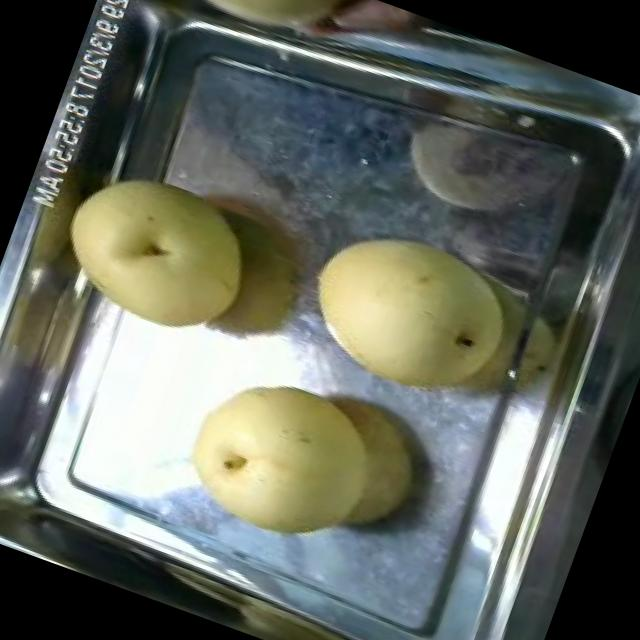Fruit: (159, 338, 444, 584), (282, 201, 536, 425), (36, 142, 276, 358), (117, 0, 406, 75)
